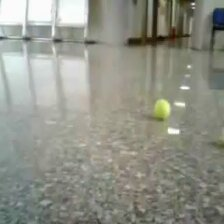tennis: (153, 99, 171, 118)
